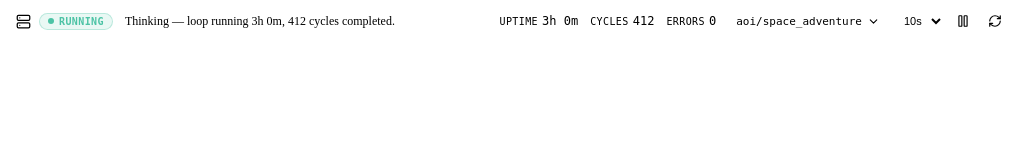
Scenario: StatusStrip › explains an empty session list inside the picker
Click the button titled "aoi/space_adventure" at (808, 21), box top-left (728, 10), bottom-right (888, 32)
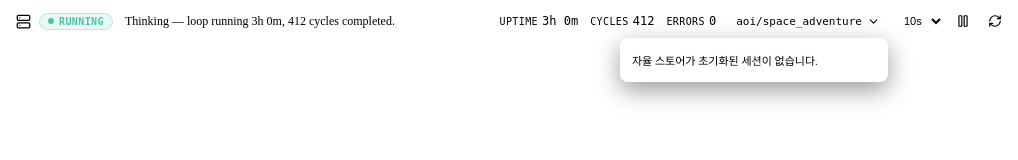
Expected: the text "자율 스토어가 초기화된 세션이 없습니다." is shown, top-left (632, 54), bottom-right (818, 66)
